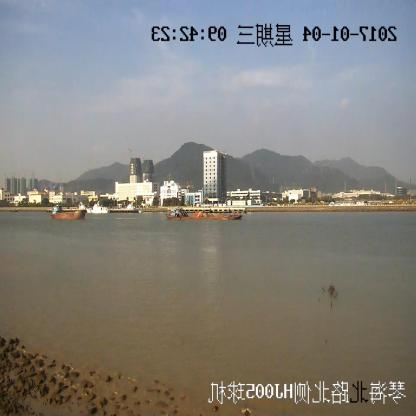Bulk Carrier: (52, 205, 85, 220)
